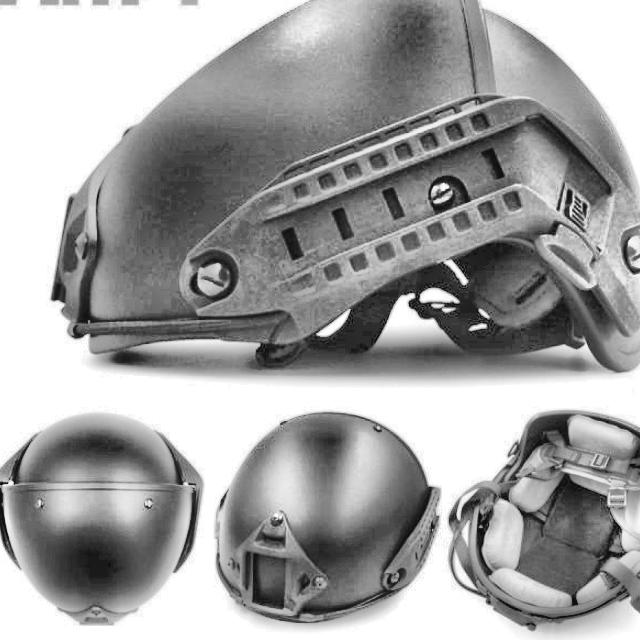Helmet: (43, 0, 640, 377), (212, 413, 435, 630), (0, 411, 194, 634)
